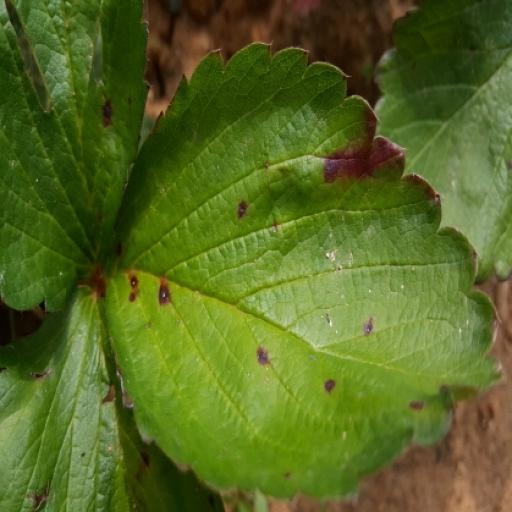Leaf Spot: (5, 41, 408, 499), (285, 274, 511, 511), (360, 0, 511, 312)
